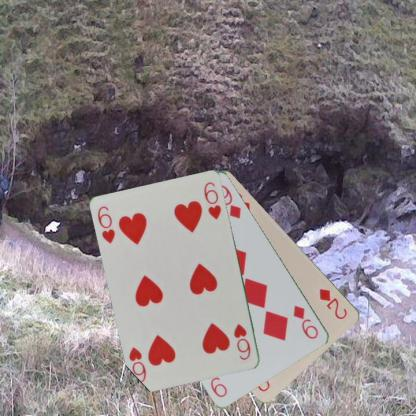2d: (317, 286, 349, 321)
6h: (94, 203, 116, 245), (231, 321, 253, 362)
9d: (291, 302, 320, 340)
